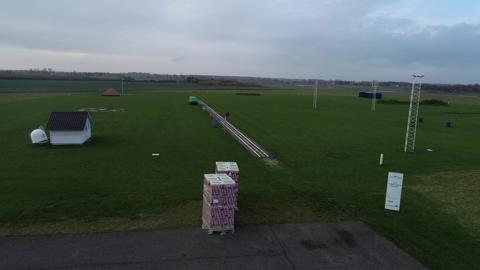RockwoolPallet: (215, 158, 239, 199)
